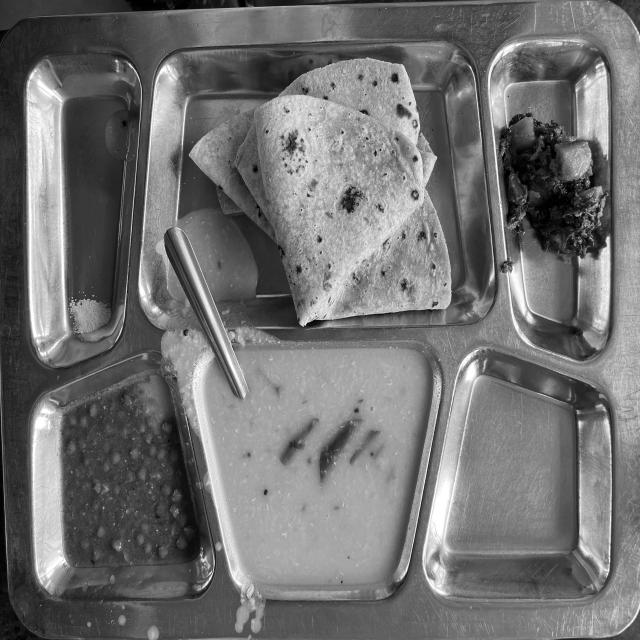70.2- Food Left: (7, 32, 626, 615)
